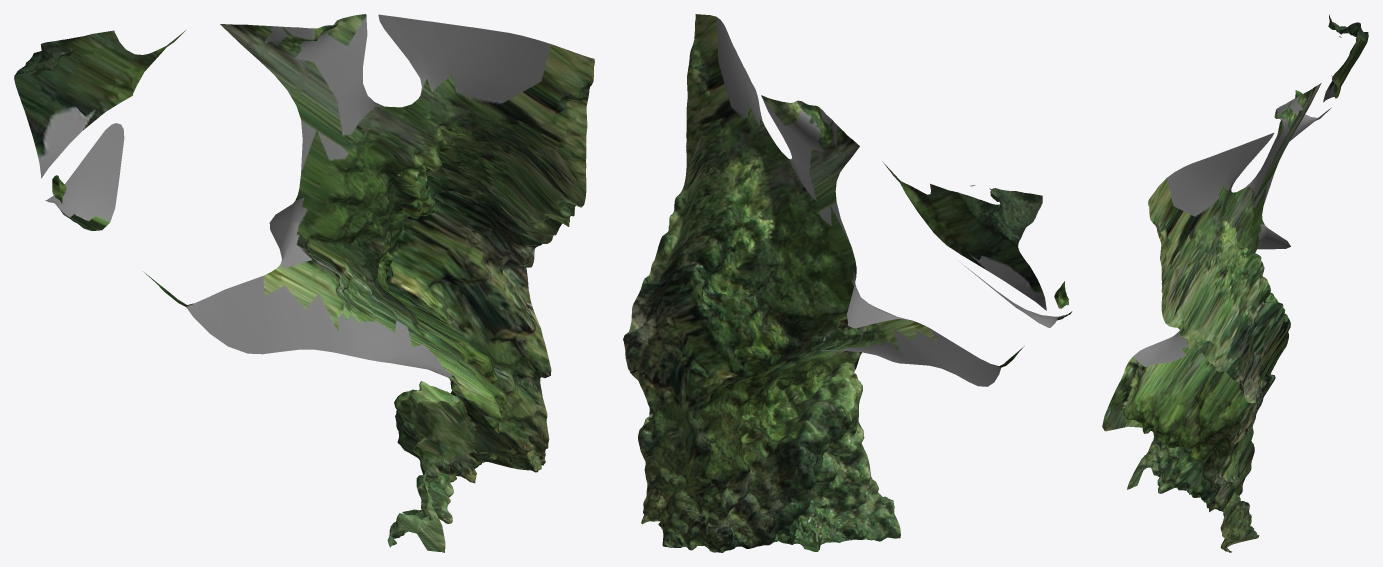
File: Tile_+004_+030.fbx
The picture shows the model from 3 angles, left to right: view 1: azimuth 30°, elevation 25°; view 2: azimuth 150°, elevation 25°; view 3: azimuth 270°, elevation 25°; orthographic projection. The views are drawn at different scales.
Parts seen in each view (by area): view 1: DefaultName; view 2: DefaultName; view 3: DefaultName.
Part boxes in pixels (box(x1,y1,x2,y2)): DefaultName: box(14, 14, 594, 552); DefaultName: box(623, 14, 1072, 552); DefaultName: box(1102, 14, 1368, 552).
Bounding box in the file's own units: 22.54 × 22.54 × 14.82.
